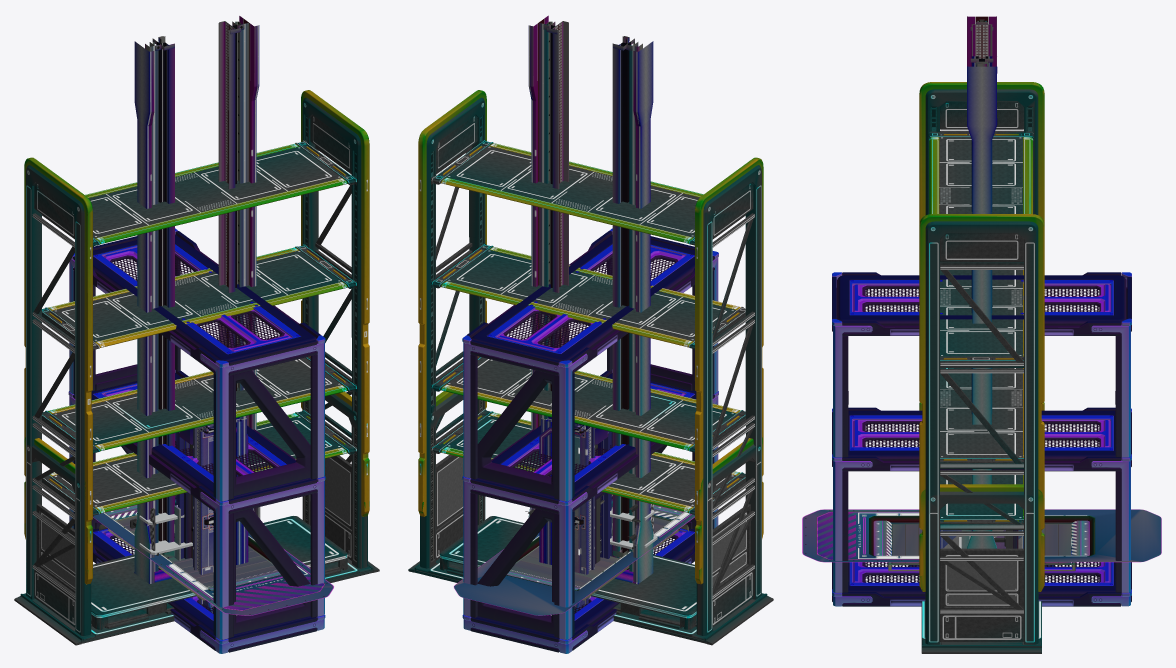
File: regal.glb
3 renders of one model, left to right at view 1: azimuth 30°, elevation 25°; view 2: azimuth 150°, elevation 25°; view 3: azimuth 270°, elevation 25°, orthographic. The views are drawn at different scales.
Visible parts, largest first — view 1: prop_regal_storage_rack_1_02x0575x08_a, prop_regal_uee_lawless_prop_shelf_storage_large, prop_regal_cargo_rack_1_a, prop_regal_storage_rack_1_02x0575x03_a, prop_regal_cargo_rack_floor_1_a, prop_regal_cargo_rack_cap_bottom_1_a, prop_regal_shelf_wall_1_a, prop_regal_cargo_rack_cap_middle_1_a, prop_regal_cargo_rack_slot_1_a; view 2: prop_regal_storage_rack_1_02x0575x08_a, prop_regal_uee_lawless_prop_shelf_storage_large, prop_regal_cargo_rack_1_a, prop_regal_storage_rack_1_02x0575x03_a, prop_regal_cargo_rack_floor_1_a, prop_regal_cargo_rack_cap_bottom_1_a, prop_regal_cargo_rack_cap_top_1_a, prop_regal_cargo_rack_cap_middle_1_a, prop_regal_shelf_wall_1_a; view 3: prop_regal_storage_rack_1_02x0575x08_a, prop_regal_uee_lawless_prop_shelf_storage_large, prop_regal_cargo_rack_floor_1_a, prop_regal_storage_rack_1_02x0575x03_a, prop_regal_cargo_rack_1_a.
Boxes of the visible parts, x1,y1,x2,y2 form: prop_regal_storage_rack_1_02x0575x08_a: (14, 90, 372, 644); prop_regal_uee_lawless_prop_shelf_storage_large: (68, 228, 325, 653); prop_regal_cargo_rack_1_a: (134, 16, 259, 583); prop_regal_storage_rack_1_02x0575x03_a: (15, 391, 379, 645); prop_regal_cargo_rack_floor_1_a: (93, 505, 333, 615); prop_regal_cargo_rack_cap_bottom_1_a: (175, 421, 241, 613); prop_regal_shelf_wall_1_a: (130, 512, 192, 555); prop_regal_cargo_rack_cap_middle_1_a: (183, 377, 246, 563); prop_regal_cargo_rack_slot_1_a: (150, 499, 260, 560); prop_regal_storage_rack_1_02x0575x08_a: (408, 90, 767, 644); prop_regal_uee_lawless_prop_shelf_storage_large: (462, 228, 718, 653); prop_regal_cargo_rack_1_a: (528, 15, 653, 583); prop_regal_storage_rack_1_02x0575x03_a: (408, 391, 773, 645); prop_regal_cargo_rack_floor_1_a: (454, 504, 694, 615); prop_regal_cargo_rack_cap_bottom_1_a: (546, 421, 612, 611); prop_regal_cargo_rack_cap_top_1_a: (539, 418, 608, 573); prop_regal_cargo_rack_cap_middle_1_a: (541, 416, 603, 573); prop_regal_shelf_wall_1_a: (525, 500, 657, 549); prop_regal_storage_rack_1_02x0575x08_a: (919, 82, 1044, 653); prop_regal_uee_lawless_prop_shelf_storage_large: (832, 272, 1131, 606); prop_regal_cargo_rack_floor_1_a: (802, 509, 1161, 571); prop_regal_storage_rack_1_02x0575x03_a: (919, 402, 1044, 653); prop_regal_cargo_rack_1_a: (967, 16, 997, 548).
Size of the model in its own units: 5.75 by 10 by 6.03.
44 materials, 40 textured.
